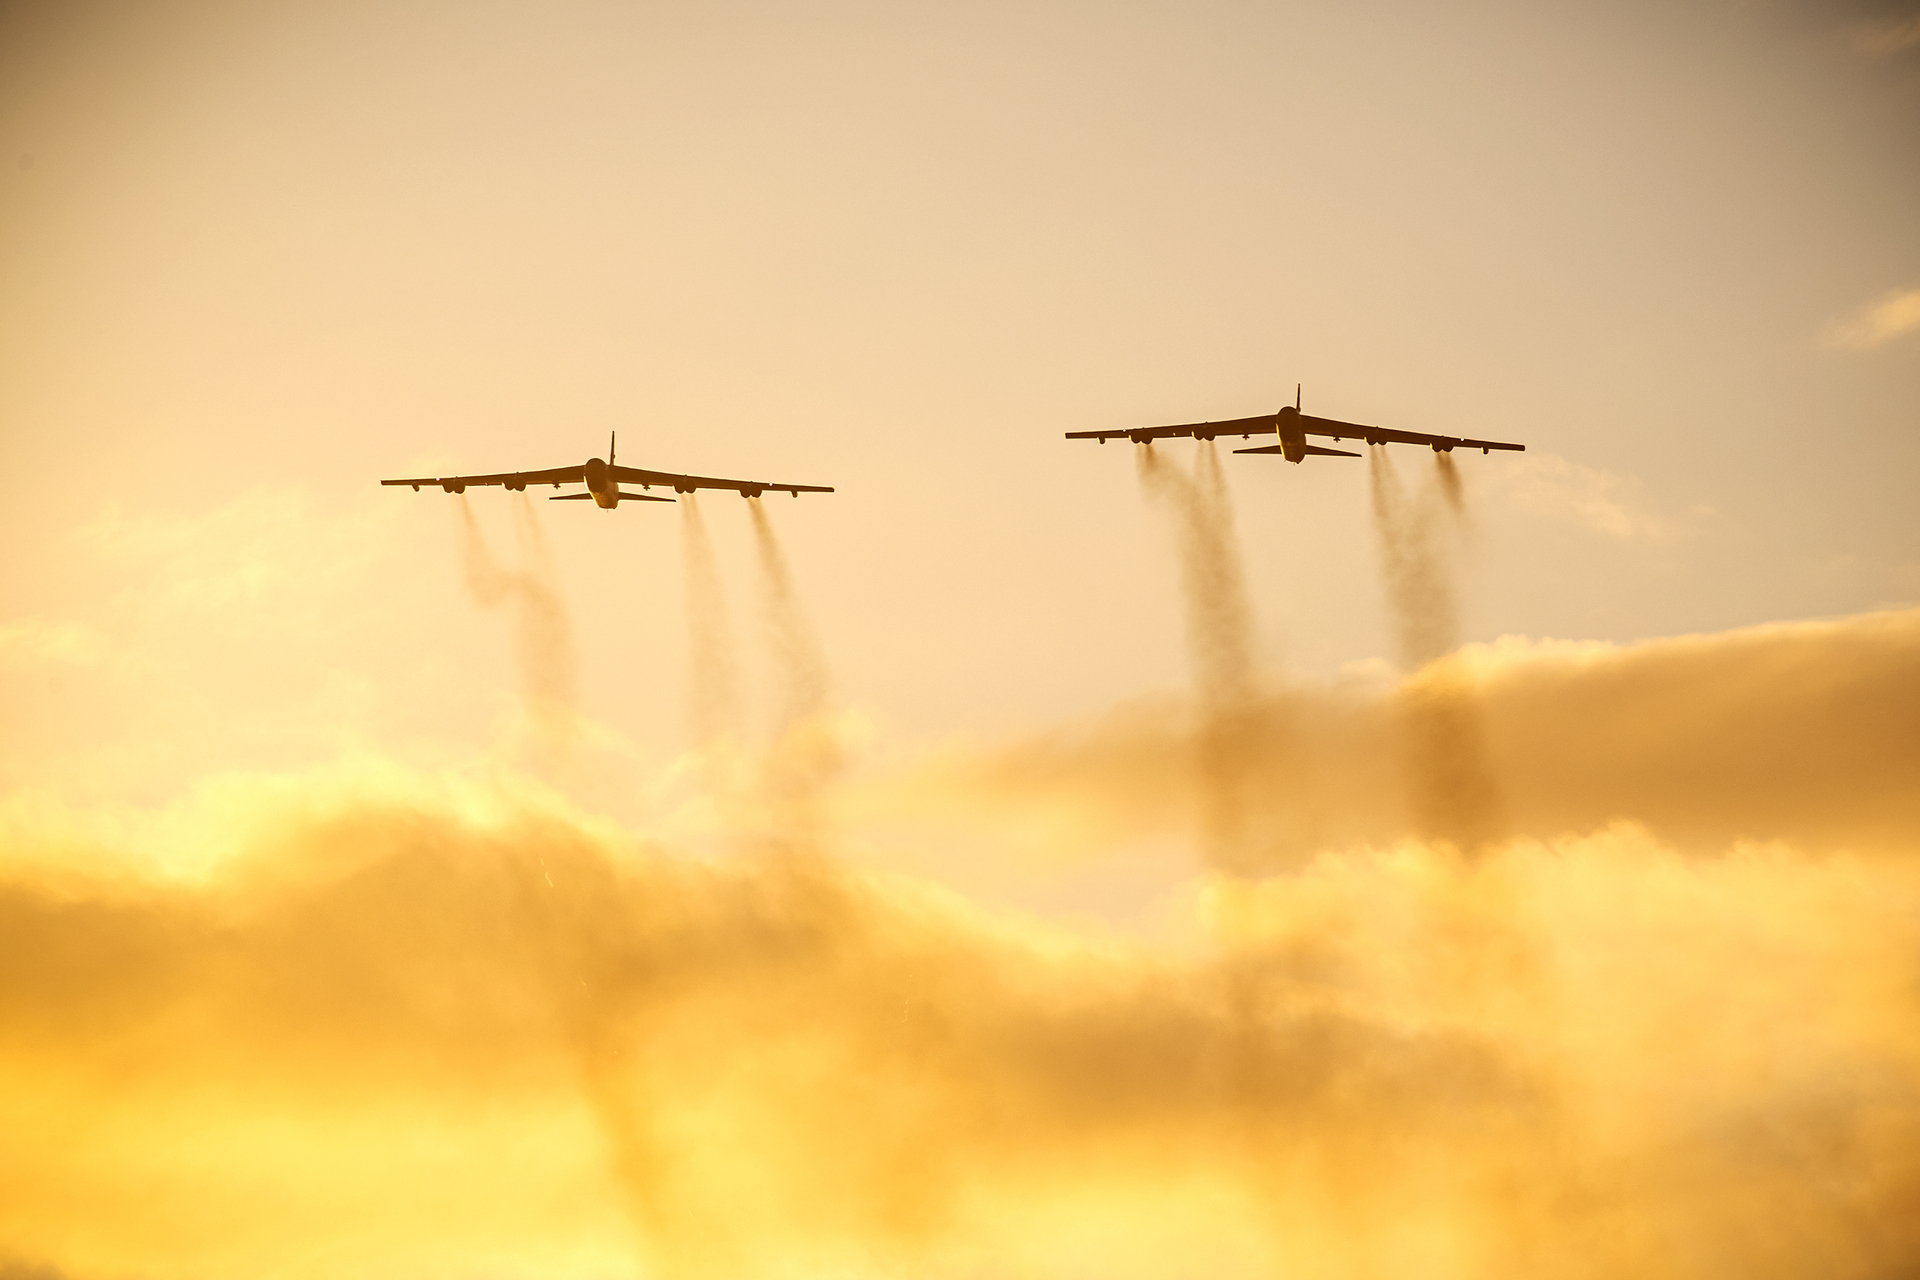B52: (1064, 381, 1526, 467), (379, 430, 834, 513)
